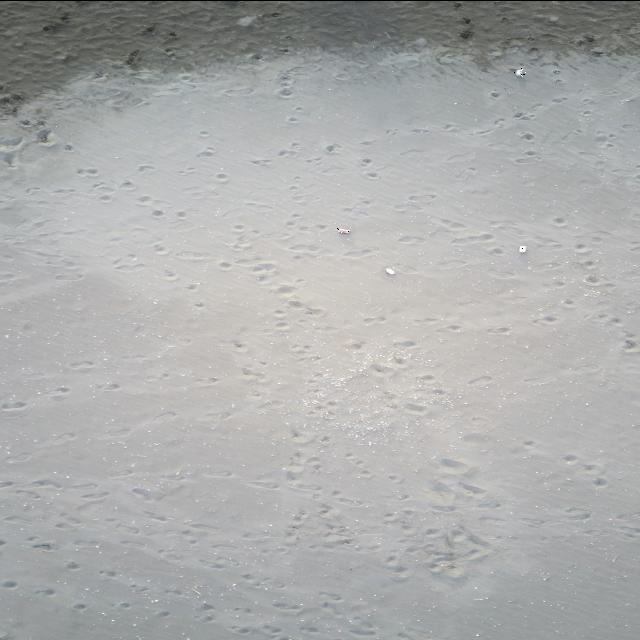Garbage: (514, 65, 524, 75), (384, 267, 395, 275), (336, 227, 348, 232), (519, 244, 526, 252)
